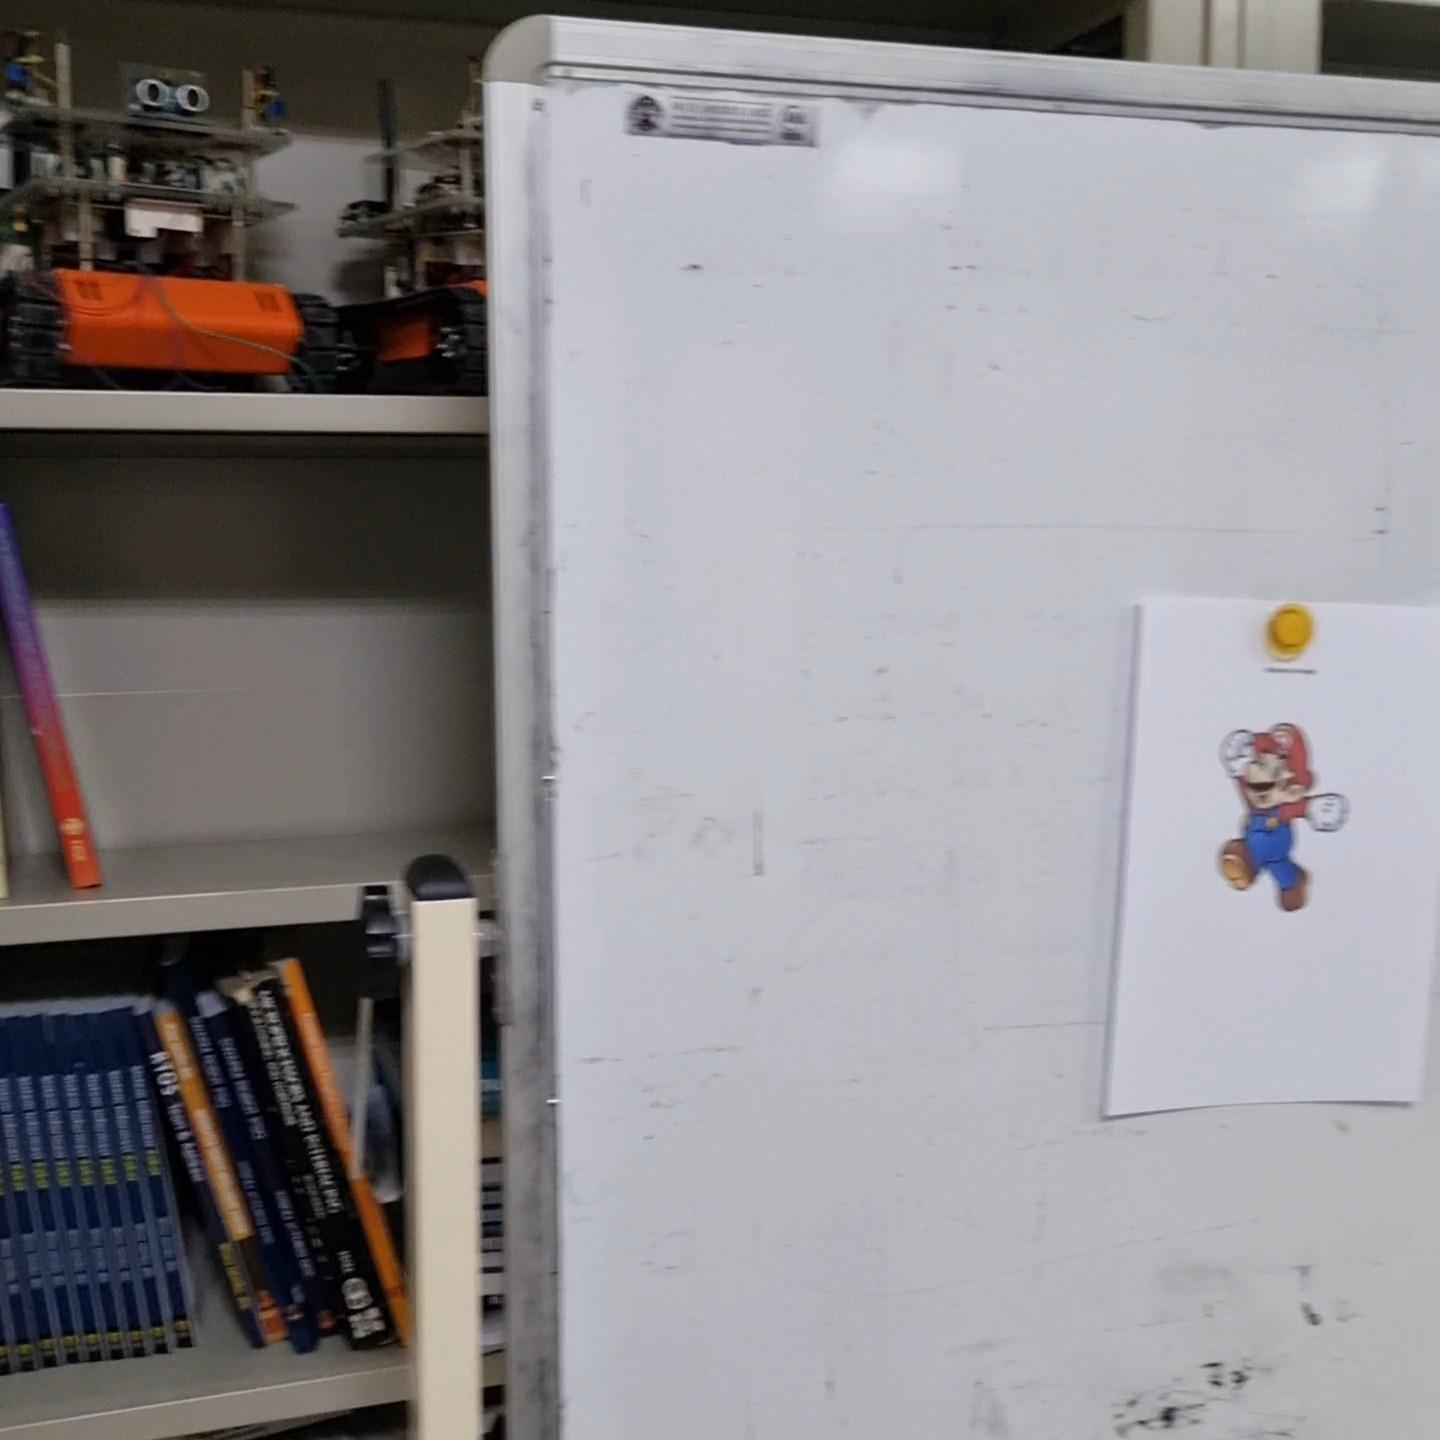mario: (1212, 712, 1354, 916)
